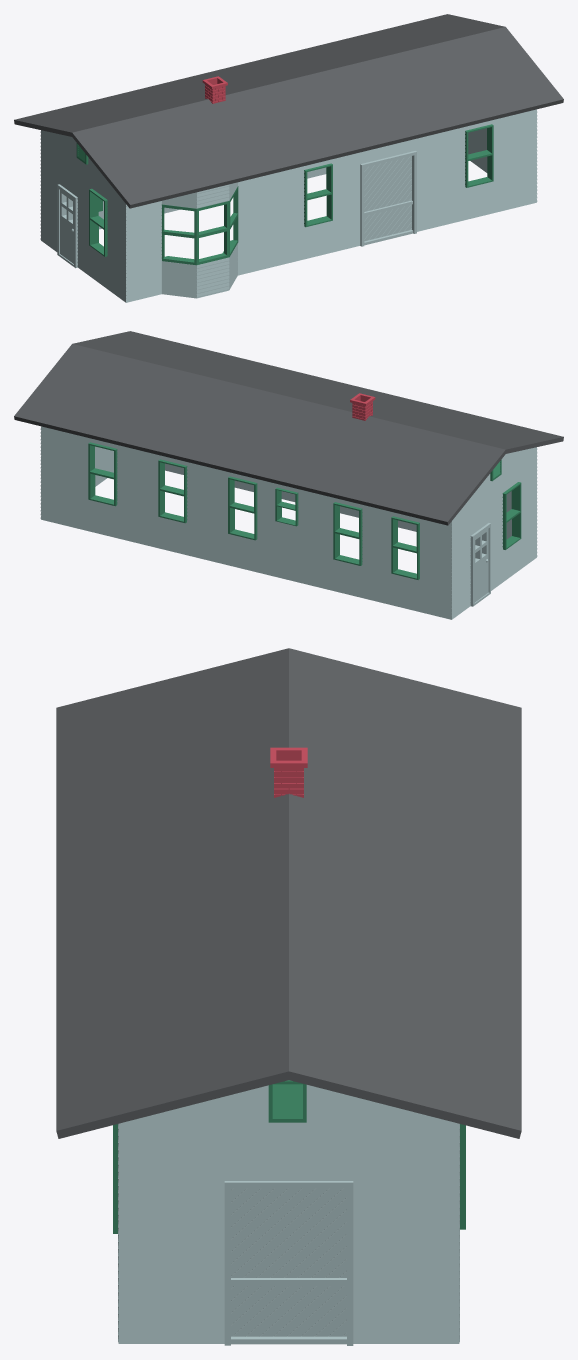
3 renders of one model, top to bottom at view 1: azimuth 30°, elevation 25°; view 2: azimuth 150°, elevation 25°; view 3: azimuth 270°, elevation 25°, orthographic. The views are drawn at different scales.
Visible parts, largest first — view 1: Mesh_Mesh_head_geo.001_lambert2SG.001; view 2: Mesh_Mesh_head_geo.001_lambert2SG.001; view 3: Mesh_Mesh_head_geo.001_lambert2SG.001.
Boxes of the visible parts, x1,y1,x2,y2 form: Mesh_Mesh_head_geo.001_lambert2SG.001: (14, 14, 563, 302); Mesh_Mesh_head_geo.001_lambert2SG.001: (14, 331, 563, 619); Mesh_Mesh_head_geo.001_lambert2SG.001: (56, 648, 521, 1345).
Size of the model in its own units: 100 by 34.95 by 46.63.
